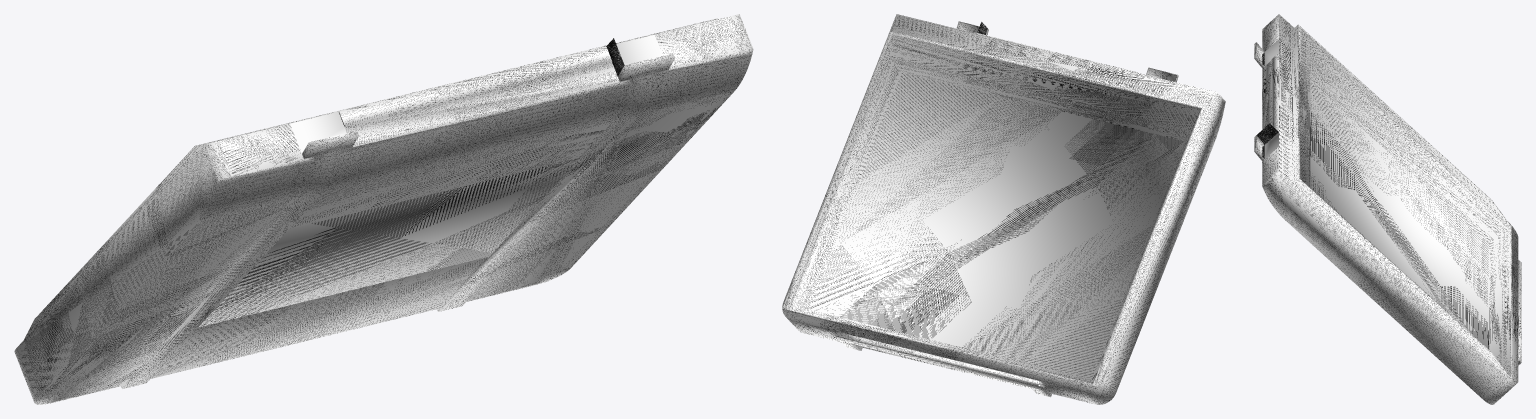
The model's file is original-12.obj.
The picture shows the model from 3 angles, left to right: view 1: azimuth 30°, elevation 25°; view 2: azimuth 150°, elevation 25°; view 3: azimuth 270°, elevation 25°; orthographic projection. The views are drawn at different scales.
Visible parts, largest first — view 1: 3dw.547ad62bd93988fff0117851f0671fde/Model/mesh1/mesh1-geometry/; view 2: 3dw.547ad62bd93988fff0117851f0671fde/Model/mesh1/mesh1-geometry/; view 3: 3dw.547ad62bd93988fff0117851f0671fde/Model/mesh1/mesh1-geometry/.
Part boxes in pixels (x1,y1,x2,y2): 3dw.547ad62bd93988fff0117851f0671fde/Model/mesh1/mesh1-geometry/: (14,14,753,404); 3dw.547ad62bd93988fff0117851f0671fde/Model/mesh1/mesh1-geometry/: (782,14,1225,404); 3dw.547ad62bd93988fff0117851f0671fde/Model/mesh1/mesh1-geometry/: (1254,14,1521,404).
Size of the model in its own units: 1.25 by 0.9238 by 0.8957.
